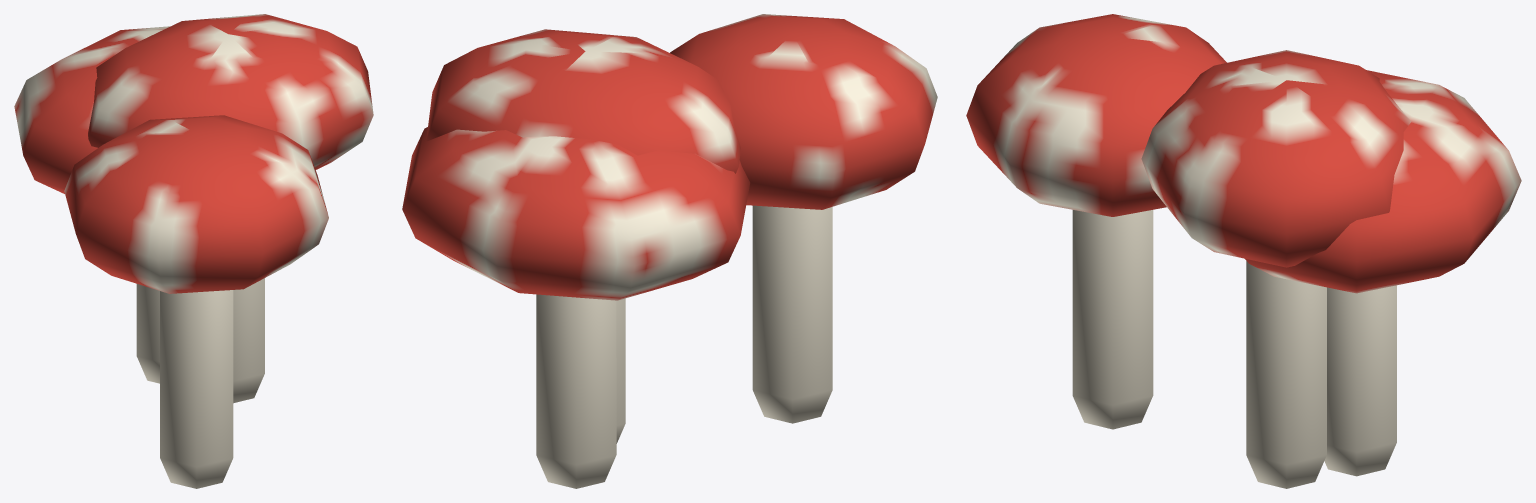
Rendered from prop_shroomtrue_4cb5.glb.
The picture shows the model from 3 angles, left to right: view 1: azimuth 30°, elevation 25°; view 2: azimuth 150°, elevation 25°; view 3: azimuth 270°, elevation 25°; orthographic projection. The views are drawn at different scales.
Visible parts, largest first — view 1: prop_shroomtrue_4cb5; view 2: prop_shroomtrue_4cb5; view 3: prop_shroomtrue_4cb5.
Part boxes in pixels (x1,y1,x2,y2): prop_shroomtrue_4cb5: (14,14,373,488); prop_shroomtrue_4cb5: (402,14,937,488); prop_shroomtrue_4cb5: (966,14,1521,488).
Bounding box in the file's own units: 0.3131 × 0.2975 × 0.3678.
1 material, 1 textured.
